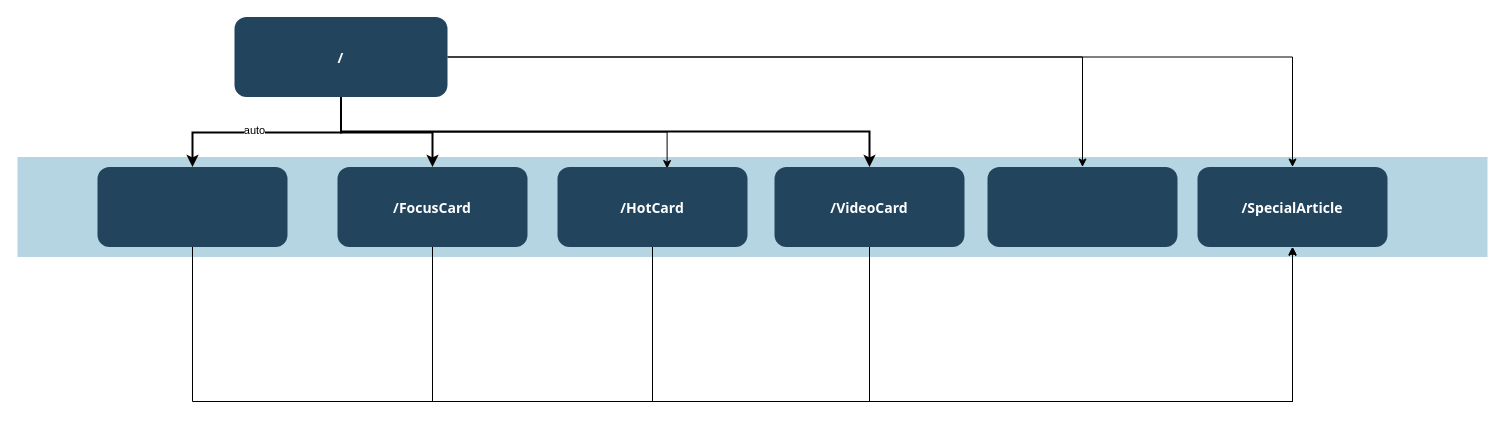
Some shapes in this 1504 by 427 pixel diagram are drawn without their labels. The centre of each missing label's shape, as x and y in pixels:
"/EditArticle" belongs at (x=1082, y=206).
"/Recommend" belongs at (x=192, y=206).
